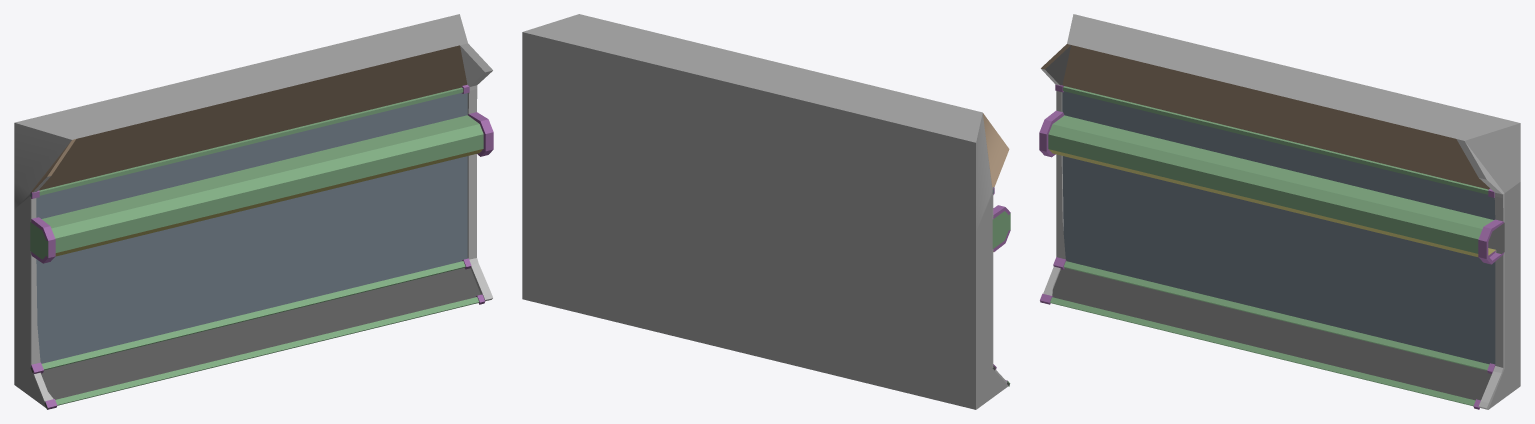
File: Wall_End.fbx
The picture shows the model from 3 angles, left to right: view 1: azimuth 30°, elevation 25°; view 2: azimuth 150°, elevation 25°; view 3: azimuth 330°, elevation 25°; orthographic projection.
Parts seen in each view (by area): view 1: Wall_End; view 2: Wall_End; view 3: Wall_End.
Part boxes in pixels (bbox=[...]): Wall_End: bbox=[14, 14, 493, 409]; Wall_End: bbox=[522, 14, 1010, 409]; Wall_End: bbox=[1039, 14, 1520, 409].
Bounding box in the file's own units: 800 × 452 × 106.
